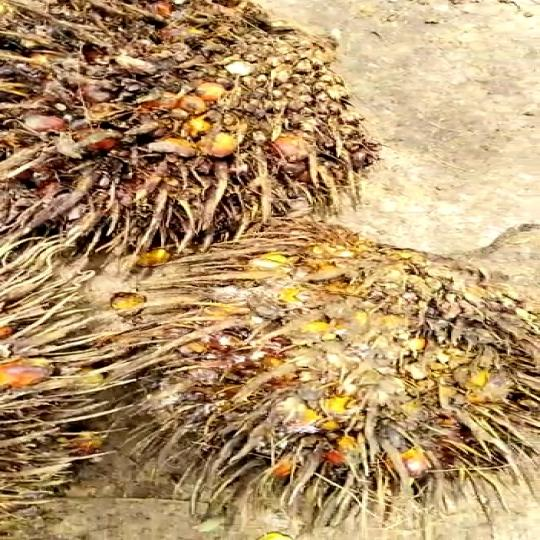terlalu masak: (90, 232, 533, 508), (0, 1, 355, 246)
